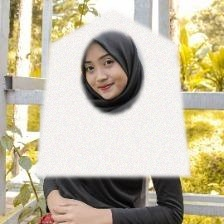Mukena: (35, 8, 190, 177)
